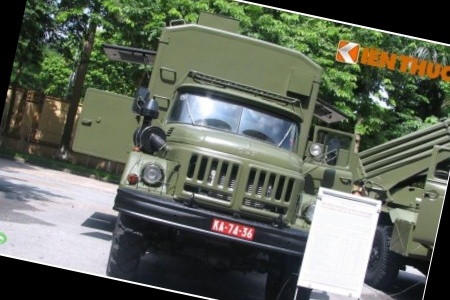plate: (206, 215, 254, 241)
